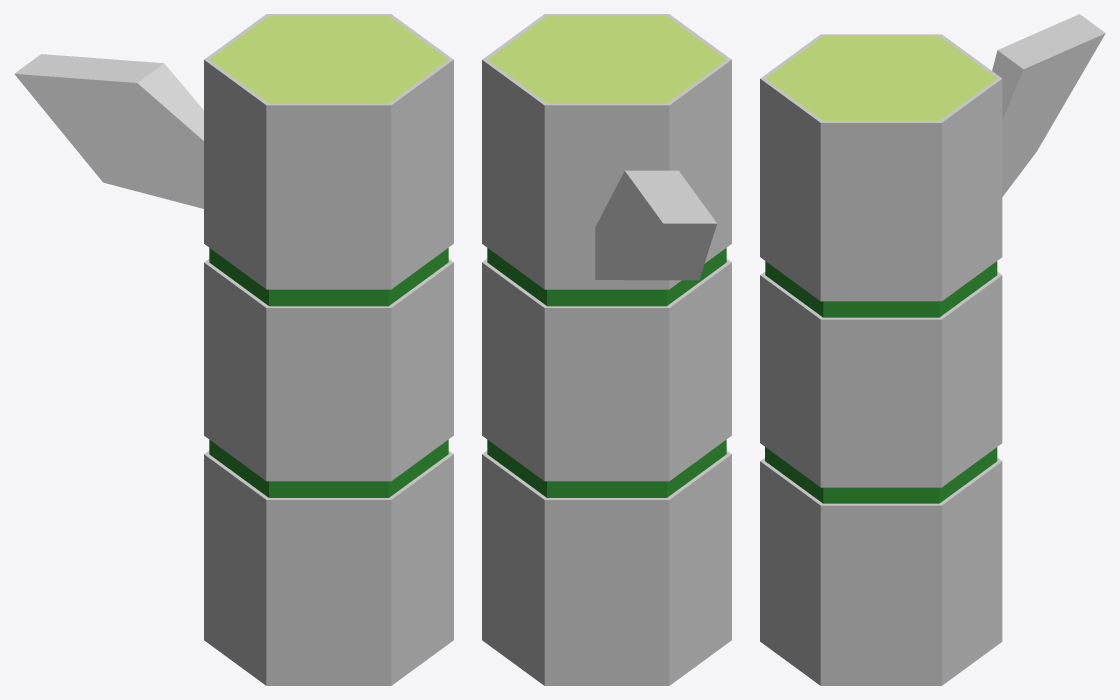
The model's file is sugarcane-planted.glb.
3 views of the same model, side by side, from view 1: azimuth 30°, elevation 25°; view 2: azimuth 150°, elevation 25°; view 3: azimuth 270°, elevation 25° (orthographic). The views are drawn at different scales.
Parts seen in each view (by area): view 1: Cylinder.001; view 2: Cylinder.001; view 3: Cylinder.001.
Boxes of the visible parts, x1,y1,x2,y2 form: Cylinder.001: (14,14,453,685); Cylinder.001: (482,14,731,685); Cylinder.001: (760,14,1105,685).
Bounding box in the file's own units: 1.29 × 2.33 × 1.3.
